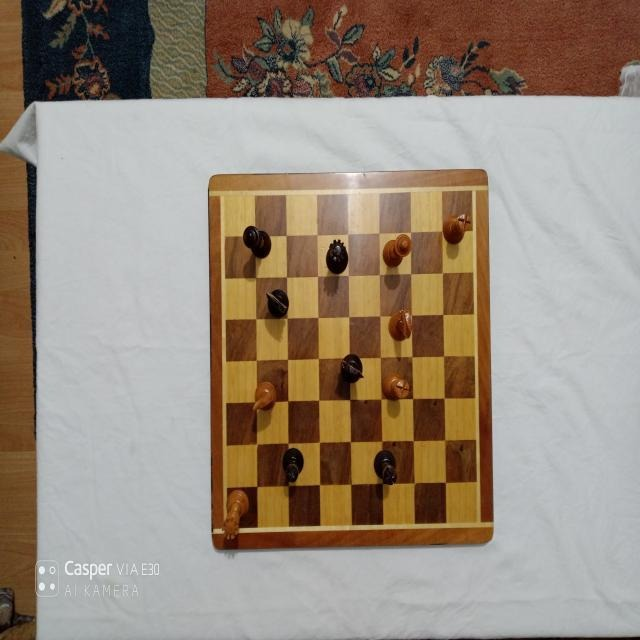black-king: (242, 225, 272, 259)
black-knight: (339, 352, 364, 383), (265, 289, 289, 319)
black-queen: (325, 238, 348, 274)
black-rook: (373, 450, 398, 486), (282, 447, 304, 483)
white-king: (382, 233, 412, 267)
white-knight: (387, 308, 412, 342), (252, 380, 276, 411)
white-queen: (222, 488, 250, 540)
white-rook: (442, 212, 472, 245), (382, 370, 410, 401)
